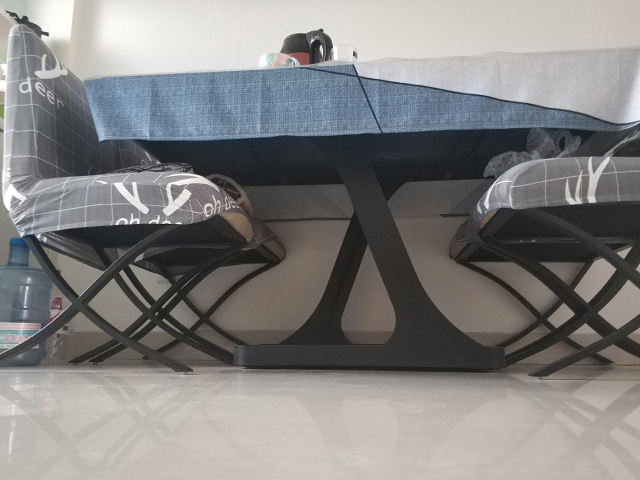stool: (1, 21, 291, 374), (446, 152, 640, 379)
table: (80, 45, 640, 372)
